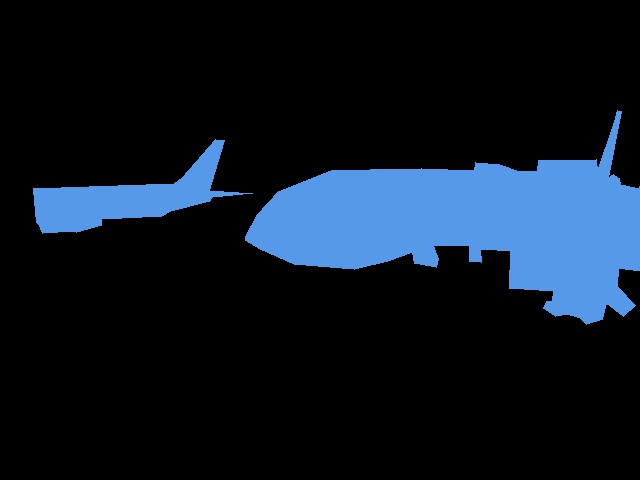Airplane: (245, 110, 640, 325), (33, 139, 252, 233)
